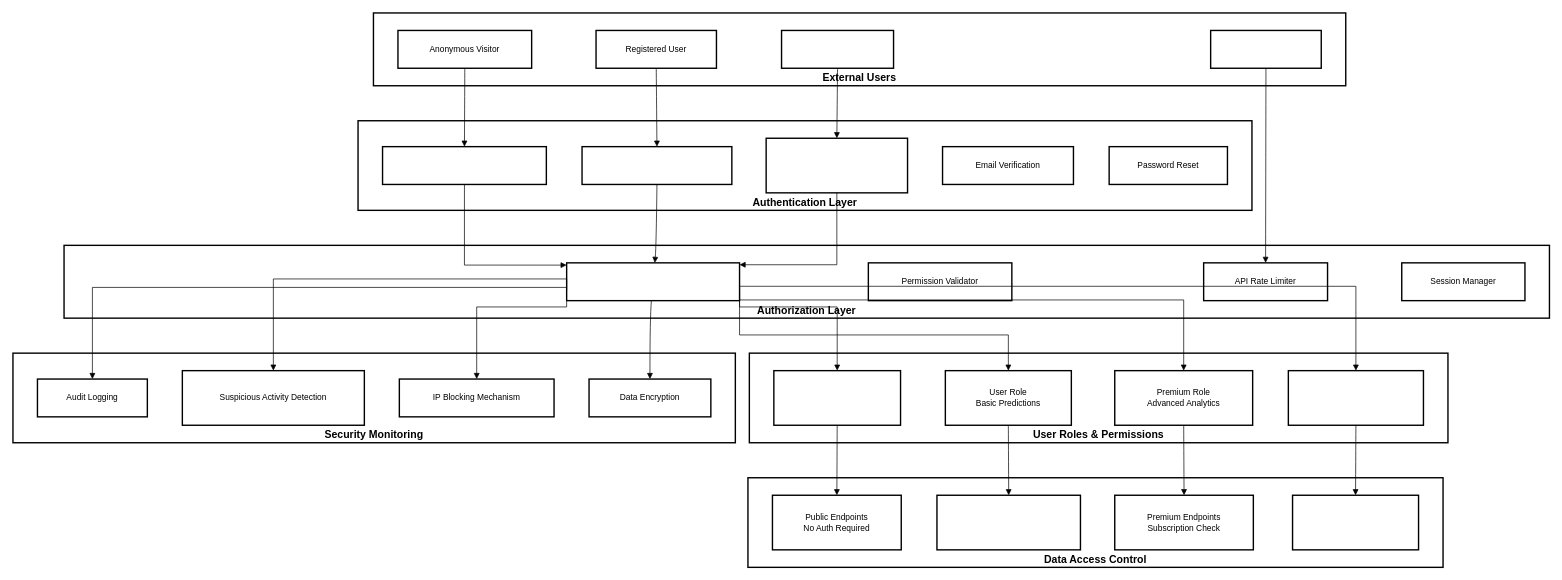
The diagram is 1562 pixels wide and 580 high, and some of its shapes have lost their labels. The shapes that lost their labels are listed below. From the top down, each one's centre as x and y in pixels, then its label:
pixel 837 49: Premium User
pixel 1266 49: API Consumer
pixel 464 165: Login/Register Interface
pixel 656 165: JWT Token Generator
pixel 836 165: OAuth 2.0 Providers Google, GitHub
pixel 653 281: Role-Based Access Control
pixel 837 398: Visitor Role Read Public Data
pixel 1355 398: Admin Role Full System Access
pixel 1008 522: Protected Endpoints JWT Required
pixel 1355 522: Admin Endpoints Role Validation
